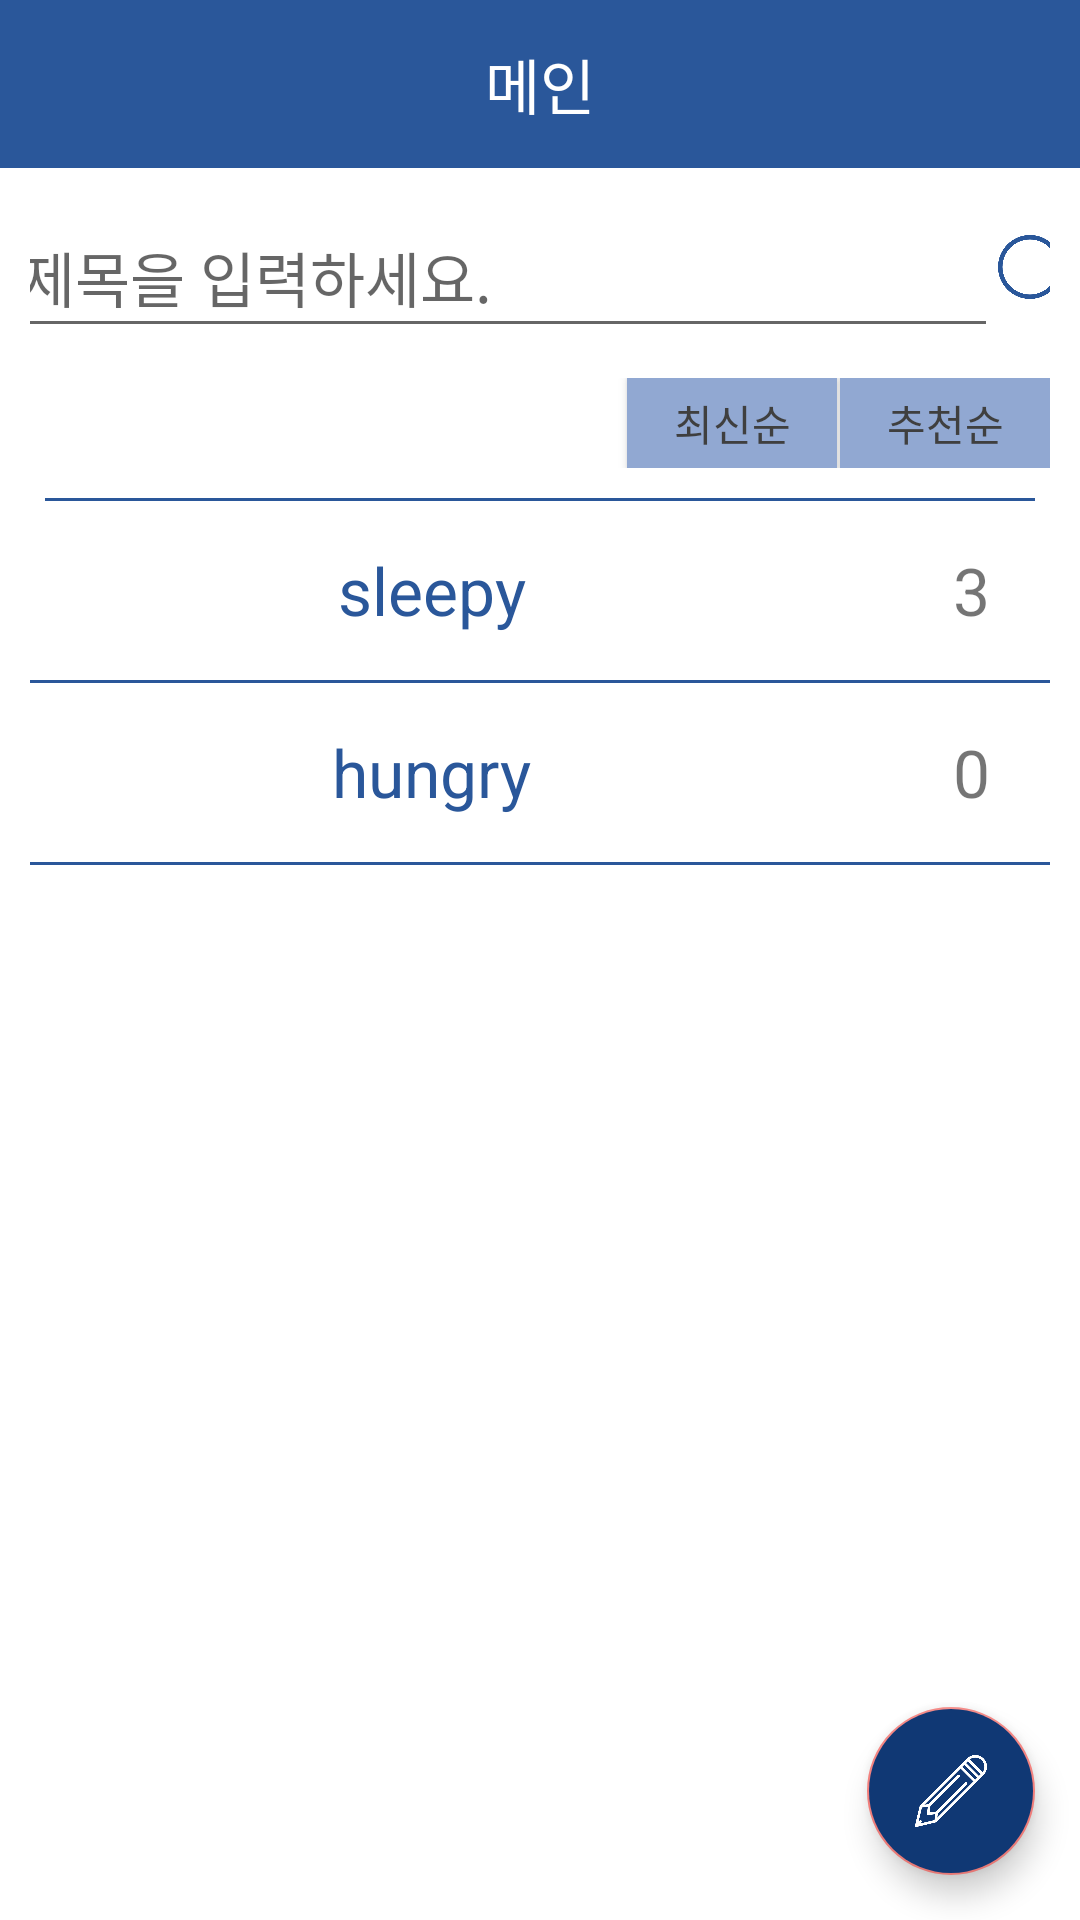

Screen size 1080 x 1920. Icon name, then its box in pixels as BBox(x1, y1, x2, y2):
write: BBox(867, 1707, 1035, 1875)
